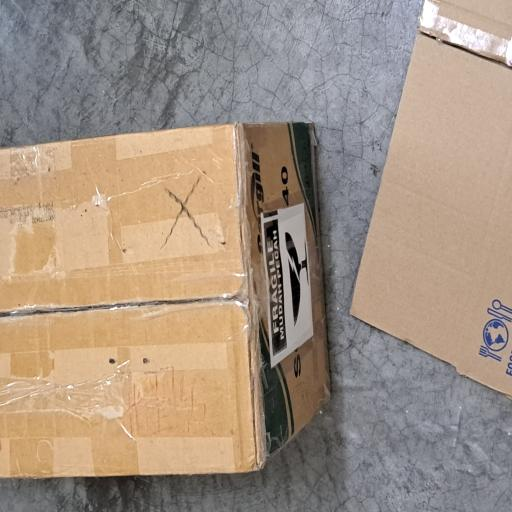cardboard: (26, 0, 292, 438), (88, 468, 384, 512)
